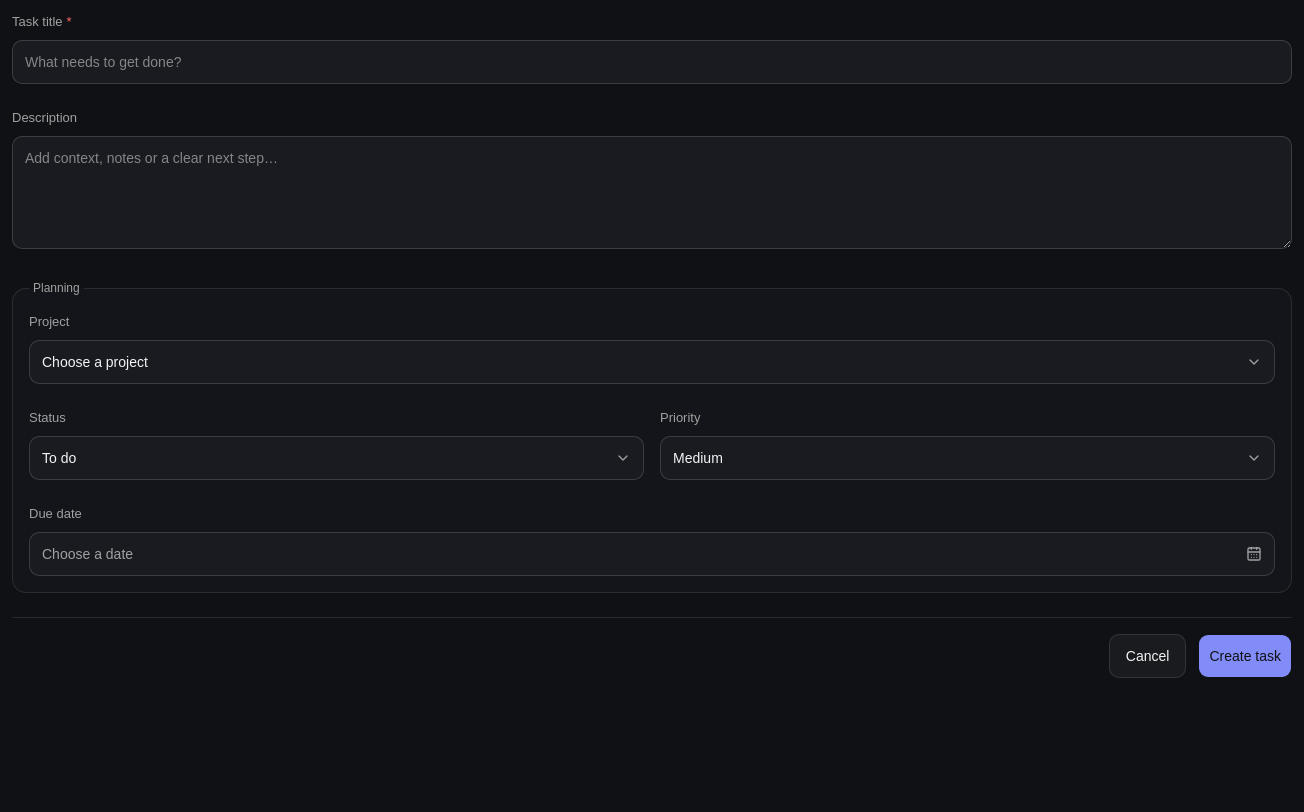
Test: Task form › requires a title and a project, with errors linked to fields
Click the button "Create task" at coordinates (1245, 656), box top-left (1198, 634), bottom-right (1292, 678)
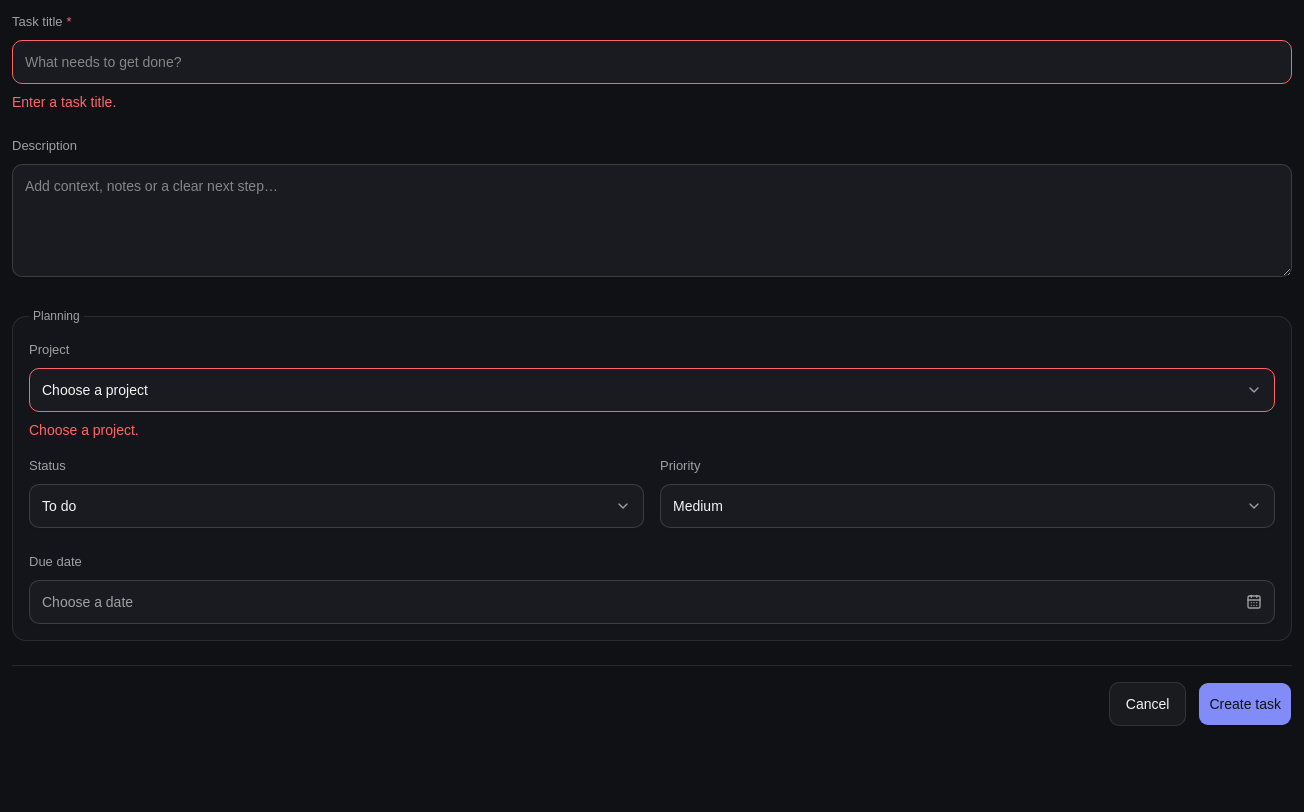
Expected: the text "Enter a task title." is shown, top-left (12, 94), bottom-right (116, 110)
Expected: the text "Choose a project." is shown, top-left (29, 422), bottom-right (139, 438)
